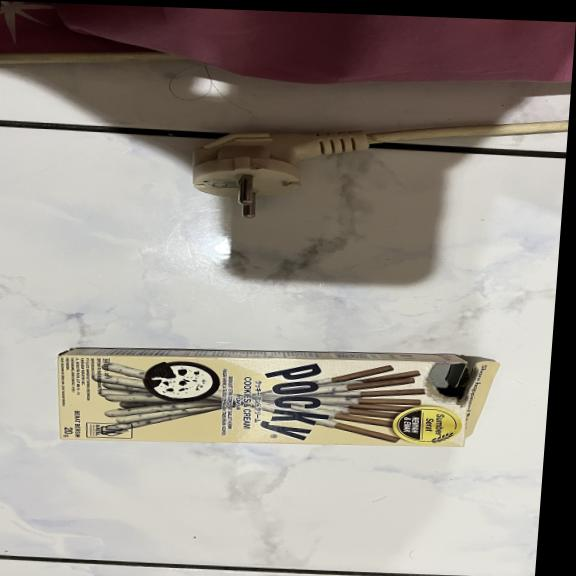Kertas: (51, 349, 474, 454)
